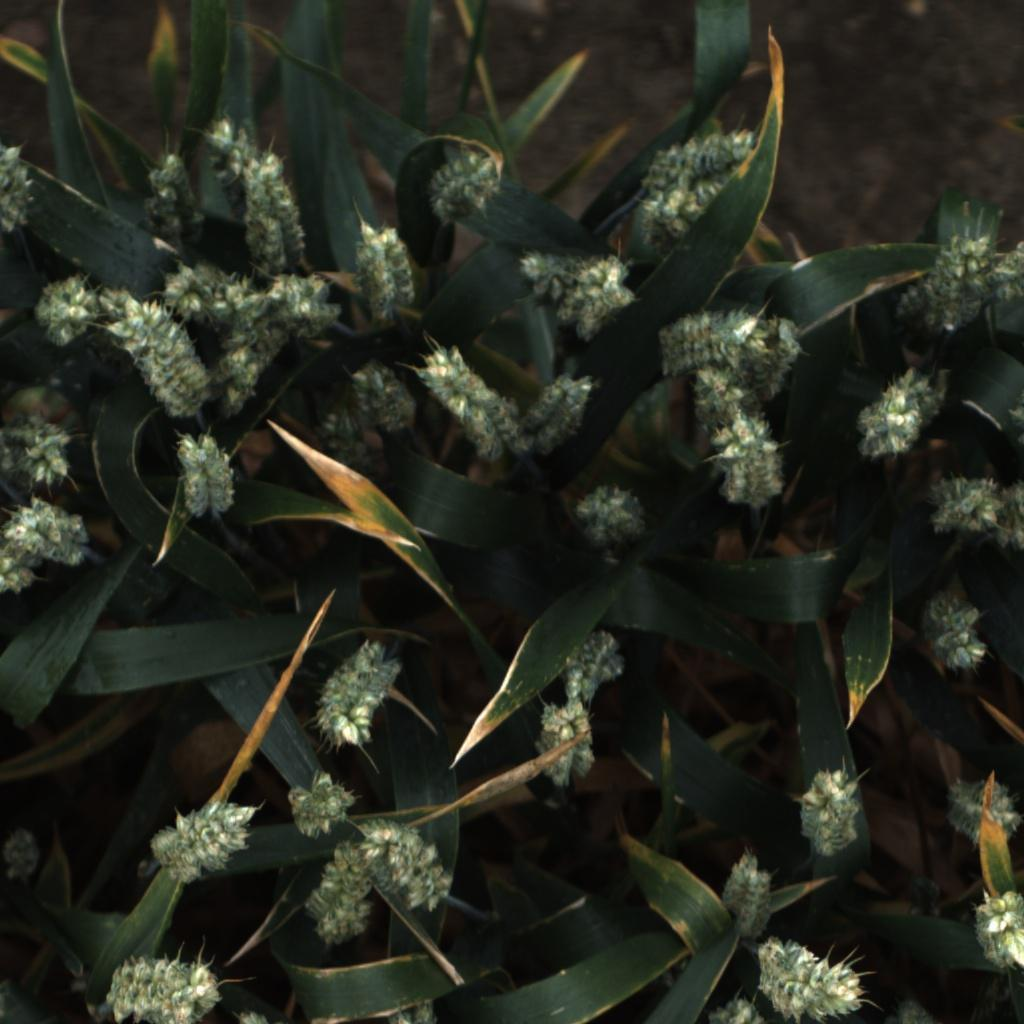0-0: (416, 338, 532, 467), (106, 295, 216, 424), (359, 809, 463, 921), (309, 636, 404, 754), (146, 795, 267, 885), (756, 935, 870, 1024), (237, 152, 314, 281), (105, 944, 222, 1024), (296, 838, 374, 954), (708, 410, 789, 515), (629, 127, 755, 194), (654, 309, 771, 380), (550, 249, 638, 341), (205, 114, 273, 229), (351, 214, 421, 324), (921, 233, 994, 338), (172, 428, 242, 528), (689, 364, 770, 450), (796, 761, 865, 861), (423, 149, 508, 229), (2, 496, 93, 569), (521, 371, 595, 460), (222, 285, 297, 372), (938, 771, 1024, 845), (532, 700, 600, 792), (350, 349, 417, 441), (262, 271, 345, 345), (927, 466, 1009, 539), (156, 260, 250, 322), (572, 482, 650, 556), (312, 394, 379, 480), (283, 763, 358, 839), (849, 390, 924, 464), (30, 273, 103, 349), (718, 844, 778, 936), (743, 312, 804, 401), (637, 184, 709, 258), (879, 362, 954, 433), (559, 628, 628, 704), (0, 416, 74, 486), (147, 152, 209, 234), (967, 882, 1024, 970), (200, 348, 262, 427), (515, 241, 596, 301), (0, 142, 41, 243), (919, 586, 981, 649), (931, 609, 991, 670), (0, 818, 52, 887), (141, 185, 184, 258), (91, 283, 149, 335), (983, 240, 1024, 309), (992, 476, 1022, 555), (893, 272, 937, 323), (700, 993, 770, 1024), (623, 375, 673, 417), (688, 172, 736, 213), (0, 548, 39, 598), (1006, 385, 1024, 449), (898, 998, 934, 1024), (412, 1004, 438, 1024), (235, 1010, 270, 1024), (387, 1009, 412, 1024)
